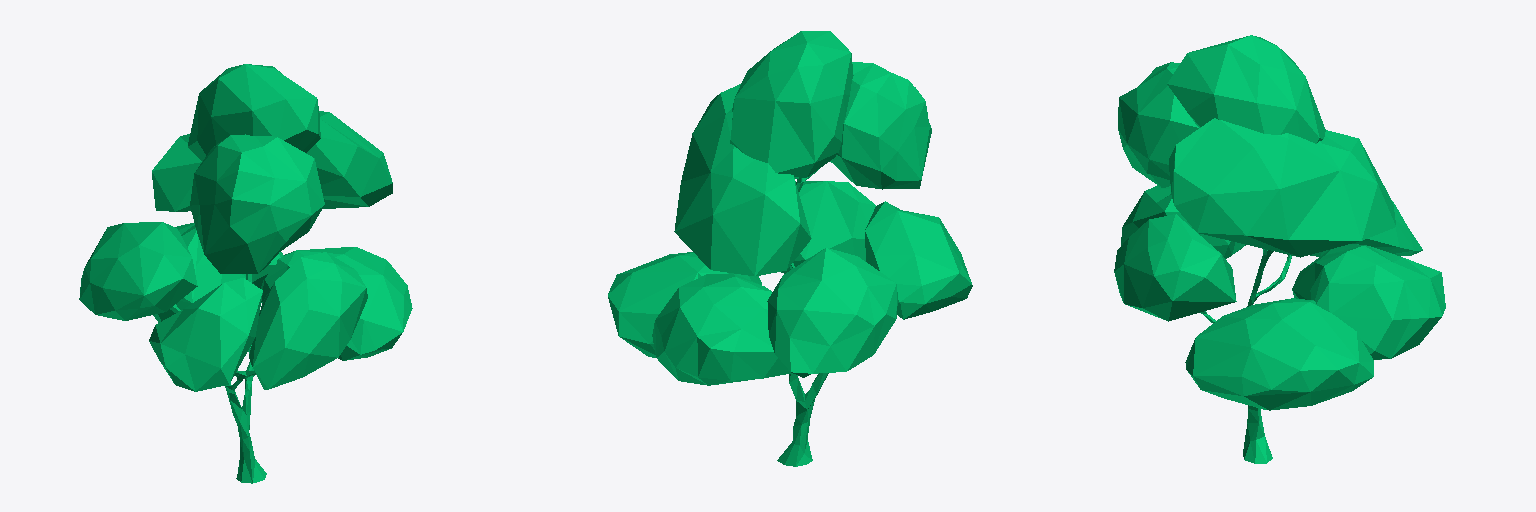
The model's file is tree_001.obj.
3 renders of one model, left to right at view 1: azimuth 30°, elevation 25°; view 2: azimuth 150°, elevation 25°; view 3: azimuth 270°, elevation 25°, orthographic.
Visible parts, largest first — view 1: tree_001; view 2: tree_001; view 3: tree_001.
Part boxes in pixels (x1,y1,x2,y2): tree_001: (79,64,412,483); tree_001: (608,31,972,466); tree_001: (1114,35,1445,463).
Bounding box in the file's own units: 5.8 × 7.86 × 5.67.